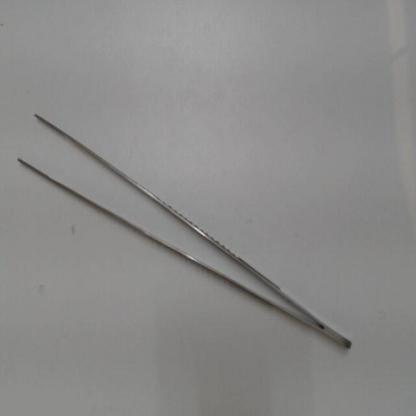DeBakey Dissector: (8, 96, 359, 356)
